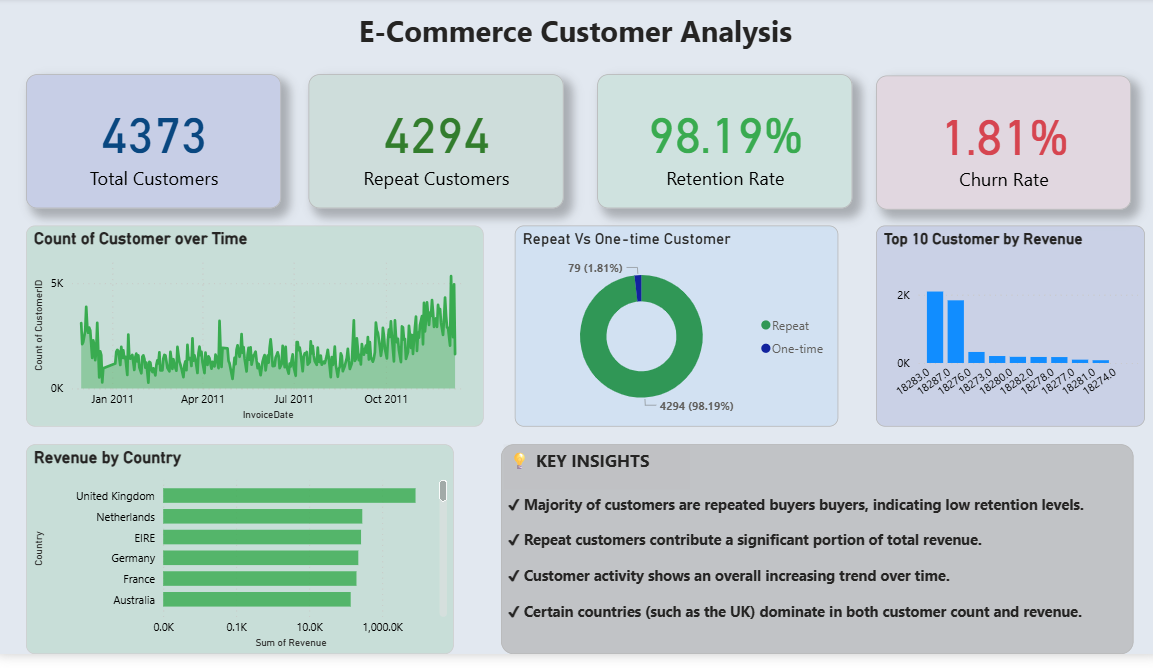

Layout of this report page (visuals, bound fields, positions):
{"tool":"powerbi","page":{"name":"Page 1","canvas":[1280,720],"ordinal":0},"visuals":[{"type":"card","fields":{"Values":["online_retail.Total Customers"]},"box":[32.9,83.7,279.9,146.8],"z":0},{"type":"card","fields":{"Values":["online_retail.Repeat Customers"]},"box":[343.1,83.7,279.9,146.8],"z":1000},{"type":"card","fields":{"Values":["online_retail.Retention Rate"]},"box":[660,83.7,279.9,146.8],"z":2000},{"type":"card","fields":{"Values":["online_retail.Churn Rate"]},"box":[966,85.1,279.9,146.8],"z":3000},{"type":"donutChart","title":"Repeat  Vs One-time Customer","fields":{"Y":["online_retail.Repeat Customers","online_retail.One-time Customers"]},"box":[569.5,249.7,355.4,220.9],"z":4000},{"type":"clusteredBarChart","title":"Revenue by Country","fields":{"Category":["online_retail.Country"],"Y":["Sum(online_retail.Revenue)"]},"box":[32.9,489.9,469.3,230.5],"z":5000},{"type":"columnChart","title":"Top 10 Customer by Revenue","fields":{"Category":["online_retail.CustomerID"],"Y":["Sum(online_retail.Revenue)"]},"box":[966,249.7,295,220.9],"z":6000},{"type":"lineChart","title":"Count of Customer over Time","fields":{"Y":["CountNonNull(online_retail.CustomerID)"],"Category":["online_retail.InvoiceDate"]},"box":[32.9,249.7,502.2,220.9],"z":7000},{"type":"textbox","box":[554.4,489.9,694.3,230.5],"z":8000,"group":"g1"},{"type":"textbox","box":[70,9.6,1132.1,64.5],"z":9000},{"type":"textbox","box":[557.1,489.9,204.5,49.4],"z":10000,"group":"g1"},{"type":"textbox","box":[557.1,539.3,665.5,170.2],"z":11000,"group":"g1"},{"type":"group","id":"g1","title":"Group 1","box":[554.4,489.9,694.3,230.5],"z":11001}]}

Visuals, with their boxes in screenshot pixels (x1, y1, x2, y2), scaled from the page's 1280x720 canvas onto the 1153x668 screenshot:
card - online_retail.Total Customers: 30, 78, 282, 214
card - online_retail.Repeat Customers: 309, 78, 561, 214
card - online_retail.Retention Rate: 595, 78, 847, 214
card - online_retail.Churn Rate: 870, 79, 1122, 215
"Repeat  Vs One-time Customer" donutChart: 513, 232, 833, 437
"Revenue by Country" clusteredBarChart: 30, 455, 452, 667
"Top 10 Customer by Revenue" columnChart: 870, 232, 1136, 437
"Count of Customer over Time" lineChart: 30, 232, 482, 437
textbox: 499, 455, 1125, 667
textbox: 63, 9, 1083, 69
textbox: 502, 455, 686, 500
textbox: 502, 500, 1101, 658
"Group 1" group: 499, 455, 1125, 667
